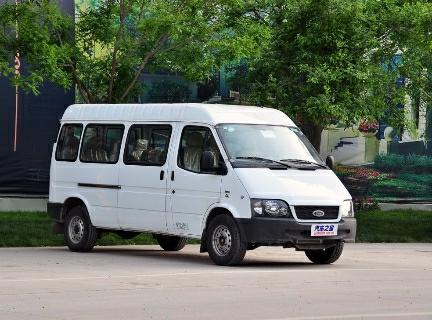car: (41, 89, 364, 271)
